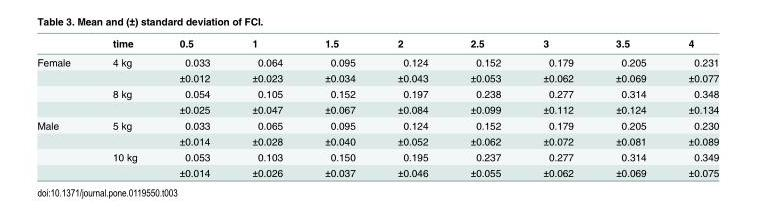table: (36, 36, 718, 178)
table column: (157, 36, 230, 178), (230, 36, 303, 178), (375, 36, 448, 178), (448, 36, 521, 178), (521, 36, 594, 178), (303, 36, 375, 178), (594, 36, 666, 178), (90, 36, 157, 178), (36, 36, 90, 178), (666, 36, 718, 178)
table column header: (36, 36, 718, 52)
table row: (36, 52, 718, 69), (36, 36, 718, 52), (36, 69, 718, 85), (36, 85, 718, 101), (36, 101, 718, 117), (36, 132, 718, 148), (36, 148, 718, 164), (36, 117, 718, 132), (36, 164, 718, 178)
table spanning cell: (36, 52, 90, 117), (36, 117, 90, 178)
